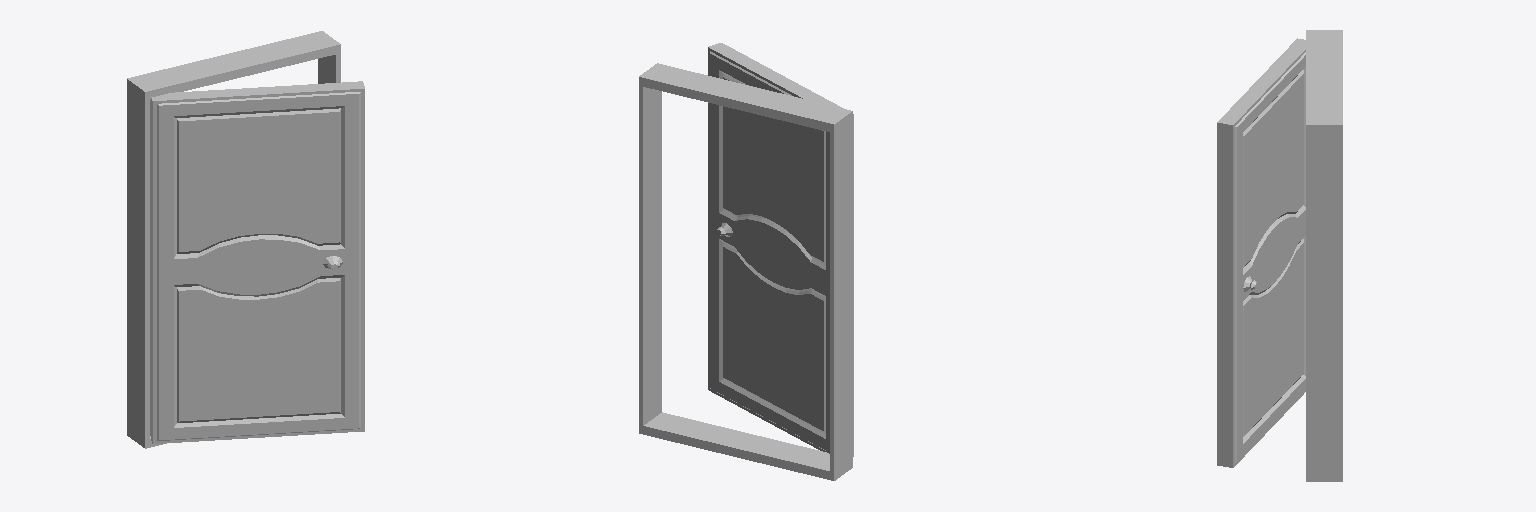
The model's file is drzwiok_000028.obj.
3 renders of one model, left to right at view 1: azimuth 30°, elevation 25°; view 2: azimuth 150°, elevation 25°; view 3: azimuth 270°, elevation 25°, orthographic.
Parts seen in each view (by area): view 1: Door_4.001_Cube.001, Kostka; view 2: Door_4.001_Cube.001, Kostka; view 3: Door_4.001_Cube.001, Kostka.
Boxes of the visible parts, x1,y1,x2,y2 form: Door_4.001_Cube.001: [150, 81, 364, 443]; Kostka: [127, 31, 340, 448]; Door_4.001_Cube.001: [708, 43, 853, 456]; Kostka: [639, 63, 852, 480]; Door_4.001_Cube.001: [1217, 38, 1305, 467]; Kostka: [1306, 30, 1342, 481].
Bounding box in the file's own units: 0.7416 × 1.29 × 0.4129.